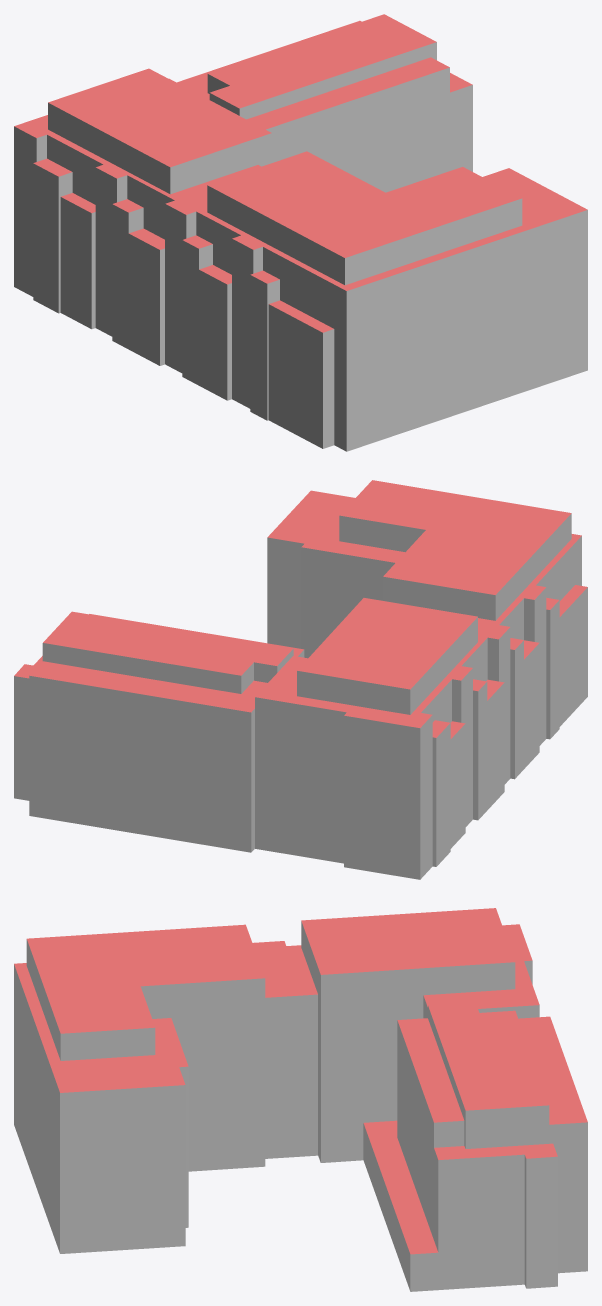
The picture shows the model from 3 angles, top to bottom: view 1: azimuth 30°, elevation 25°; view 2: azimuth 150°, elevation 25°; view 3: azimuth 270°, elevation 25°; orthographic projection. The views are drawn at different scales.
Parts seen in each view (by area): view 1: Z_UP; view 2: Z_UP; view 3: Z_UP.
Part boxes in pixels (x1,y1,x2,y2): Z_UP: (14,14,587,451); Z_UP: (14,480,587,879); Z_UP: (14,908,587,1291).
Size of the model in its own units: 53.8 by 22.89 by 63.18.
